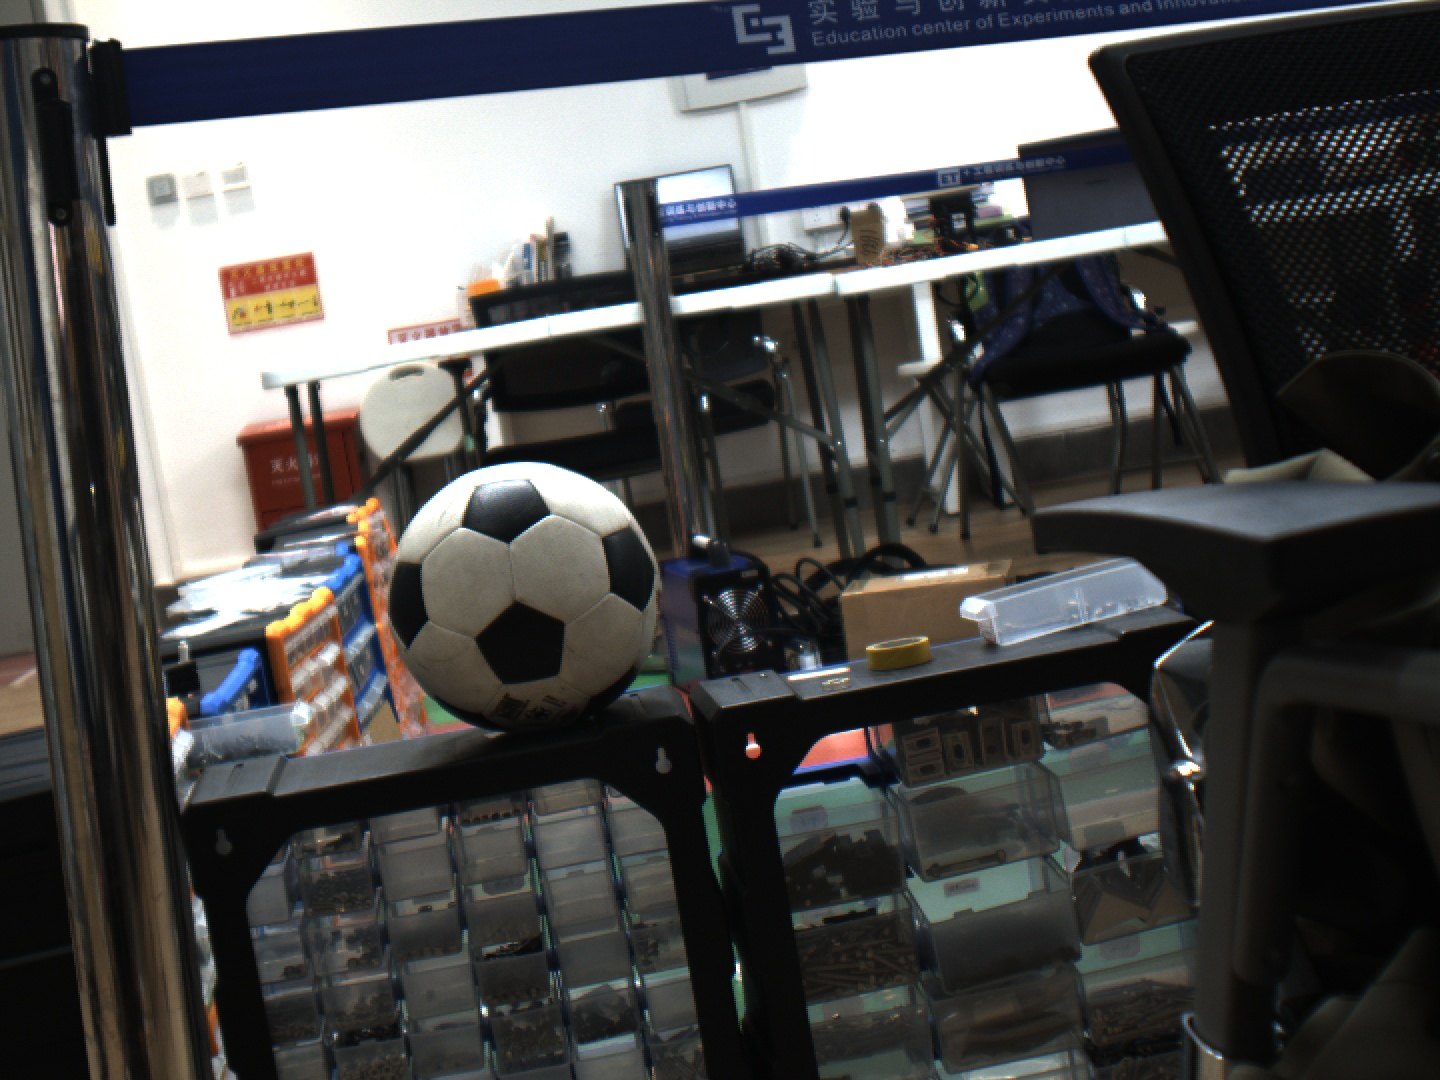ball: (369, 438, 681, 743)
